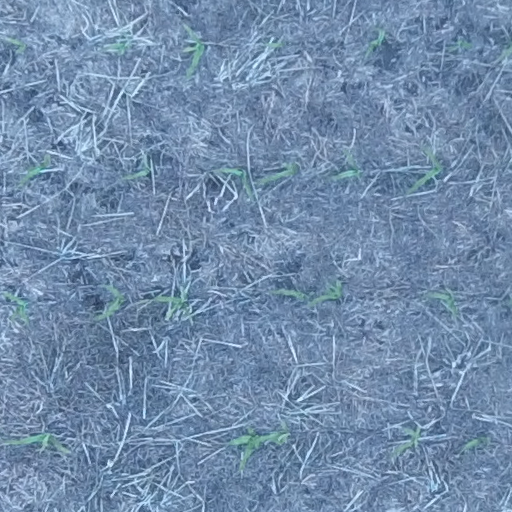planta: (226, 419, 292, 474), (404, 144, 445, 196), (137, 293, 195, 322), (180, 23, 207, 81), (213, 164, 256, 200), (91, 282, 127, 324), (253, 159, 301, 187), (16, 152, 53, 188), (305, 278, 346, 309), (329, 147, 365, 182), (424, 286, 460, 321), (388, 424, 423, 459), (362, 25, 389, 57), (119, 158, 153, 182), (103, 31, 134, 57), (268, 285, 307, 302), (459, 433, 492, 453), (4, 34, 29, 55), (447, 37, 474, 53), (262, 38, 287, 51)
